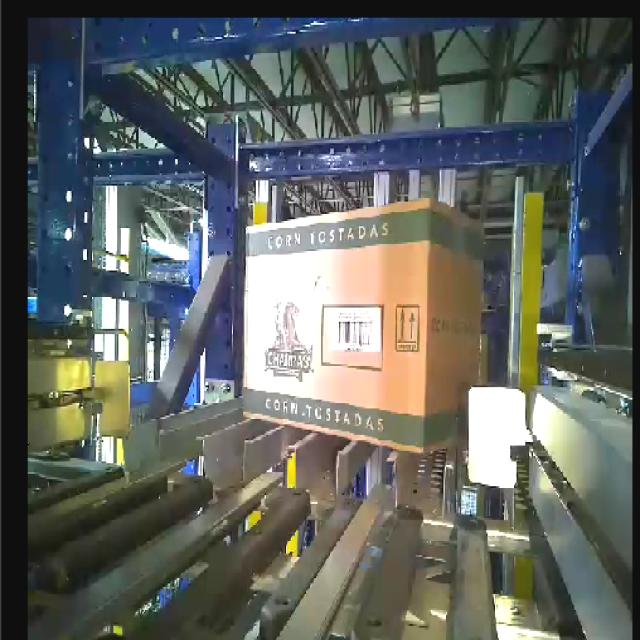box: (240, 192, 433, 456)
